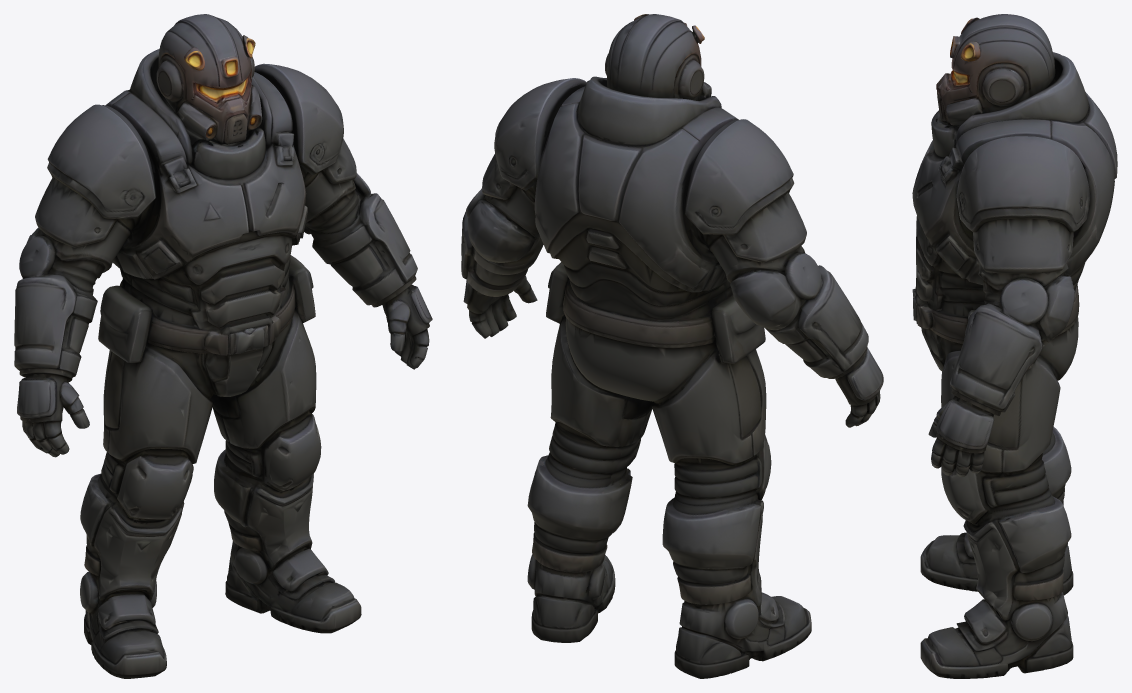
Rendered from T-Pose.fbx.glb.
3 renders of one model, left to right at view 1: azimuth 30°, elevation 25°; view 2: azimuth 150°, elevation 25°; view 3: azimuth 270°, elevation 25°, orthographic.
Visible parts, largest first — view 1: tripo_node_be129395-dfbd-4735-b3b2-5af1ec0aa330; view 2: tripo_node_be129395-dfbd-4735-b3b2-5af1ec0aa330; view 3: tripo_node_be129395-dfbd-4735-b3b2-5af1ec0aa330.
Part boxes in pixels (x1,y1,x2,y2): tripo_node_be129395-dfbd-4735-b3b2-5af1ec0aa330: (14,14,432,678); tripo_node_be129395-dfbd-4735-b3b2-5af1ec0aa330: (461,14,883,678); tripo_node_be129395-dfbd-4735-b3b2-5af1ec0aa330: (912,14,1117,678).
Bounding box in the file's own units: 0.6976 × 1 × 0.3069.
Materials: 1 (1 with a texture image).
